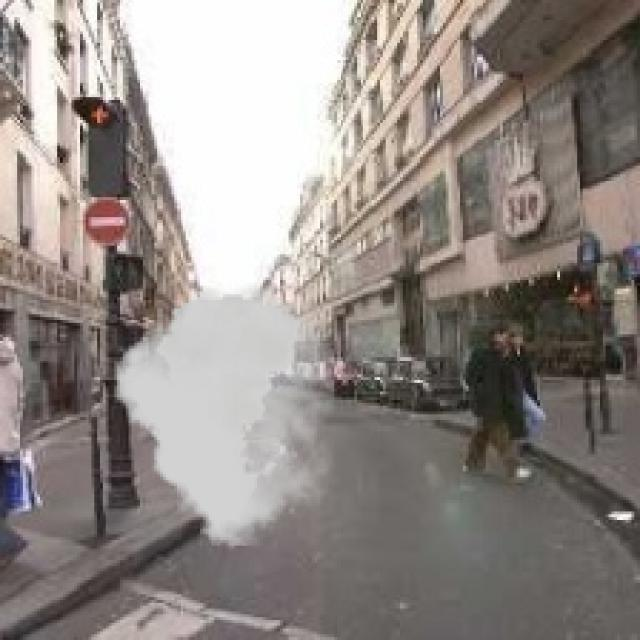smoke: (114, 283, 334, 546)
